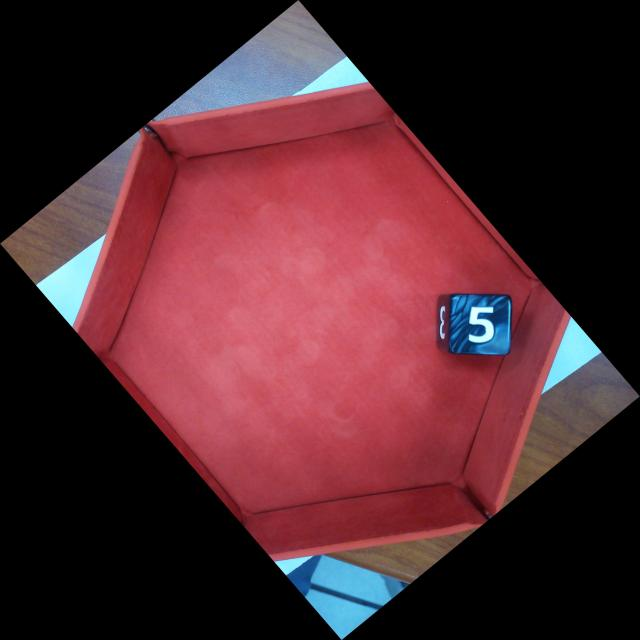dice: (449, 293, 514, 356)
